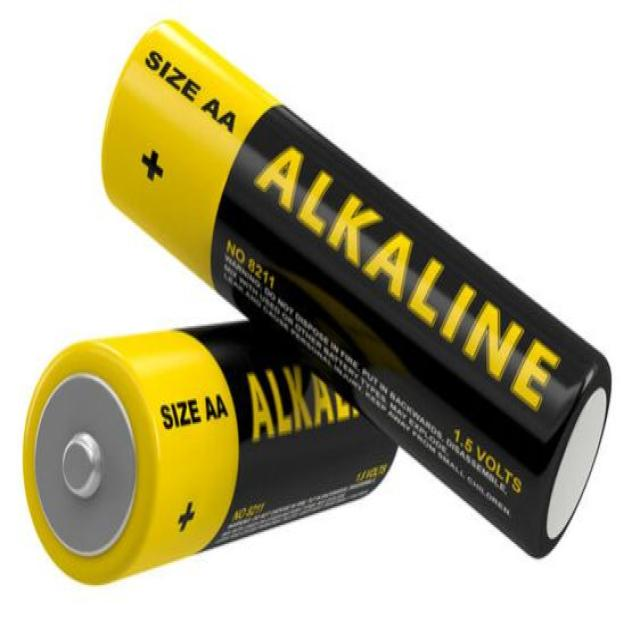electronic: (13, 10, 616, 611)
